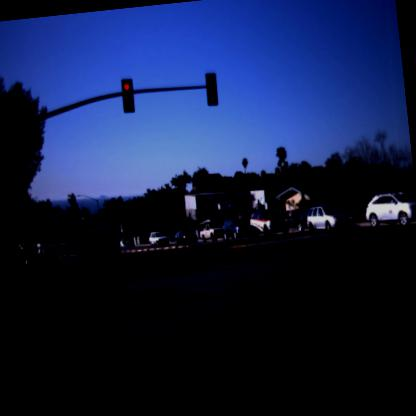trafficlight: (202, 70, 222, 108), (118, 74, 136, 116)
